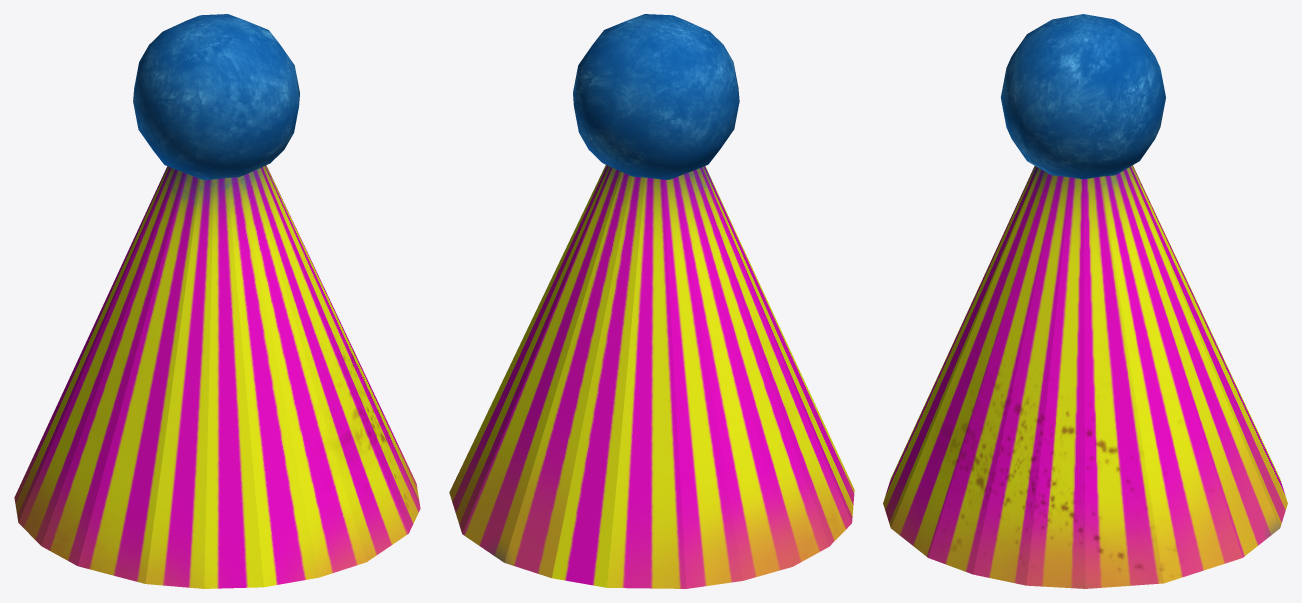
The model's file is Hat.obj.
The picture shows the model from 3 angles, left to right: view 1: azimuth 30°, elevation 25°; view 2: azimuth 150°, elevation 25°; view 3: azimuth 270°, elevation 25°; orthographic projection.
Visible parts, largest first — view 1: Cube; view 2: Cube; view 3: Cube.
Boxes of the visible parts, x1,y1,x2,y2 form: Cube: (14, 14, 420, 588); Cube: (449, 14, 854, 588); Cube: (883, 14, 1287, 588).
Bounding box in the file's own units: 4.11 × 5.38 × 4.11.
